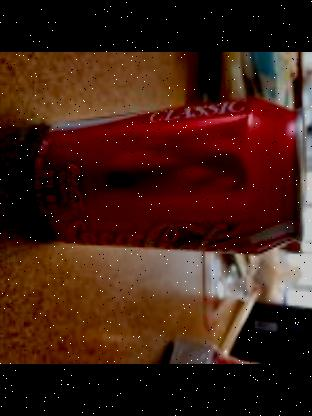Can: (32, 98, 308, 258)
